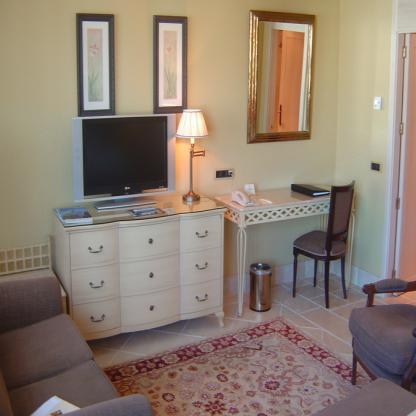door: (274, 36, 306, 137), (404, 29, 416, 292)
hinged: (398, 122, 404, 134), (396, 198, 401, 209), (402, 46, 406, 58), (392, 268, 396, 277)
lever: (280, 110, 284, 115)
